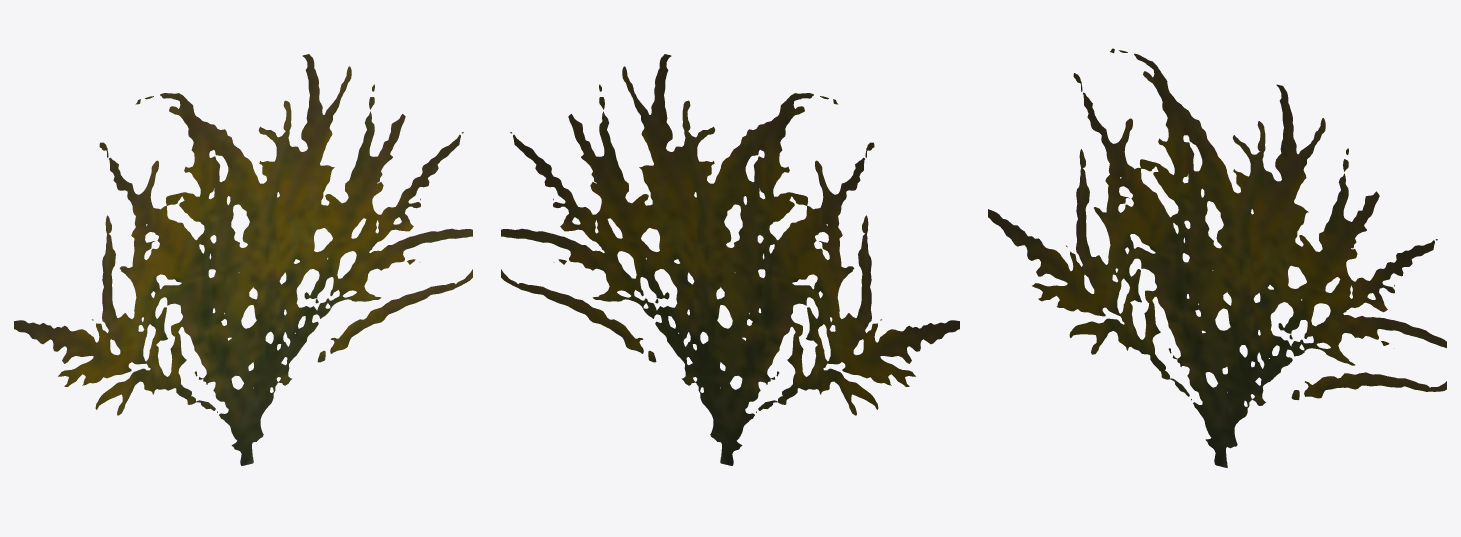
File: swamp_weed_2.FBX
The picture shows the model from 3 angles, left to right: view 1: azimuth 30°, elevation 25°; view 2: azimuth 150°, elevation 25°; view 3: azimuth 330°, elevation 25°; orthographic projection.
Parts seen in each view (by area): view 1: swamp_weed_2; view 2: swamp_weed_2; view 3: swamp_weed_2.
Part boxes in pixels (bbox=[...]): swamp_weed_2: bbox=[14, 54, 472, 465]; swamp_weed_2: bbox=[501, 54, 959, 465]; swamp_weed_2: bbox=[988, 48, 1446, 467].
Size of the model in its own units: 103 by 85.44 by 2.82e-05.
